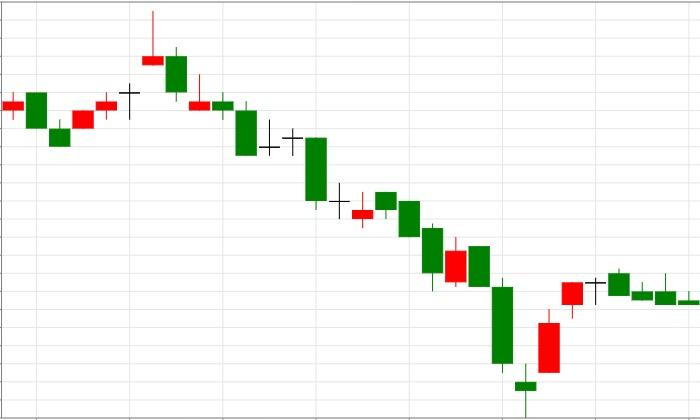morning_star_rise: (376, 192, 559, 417)
